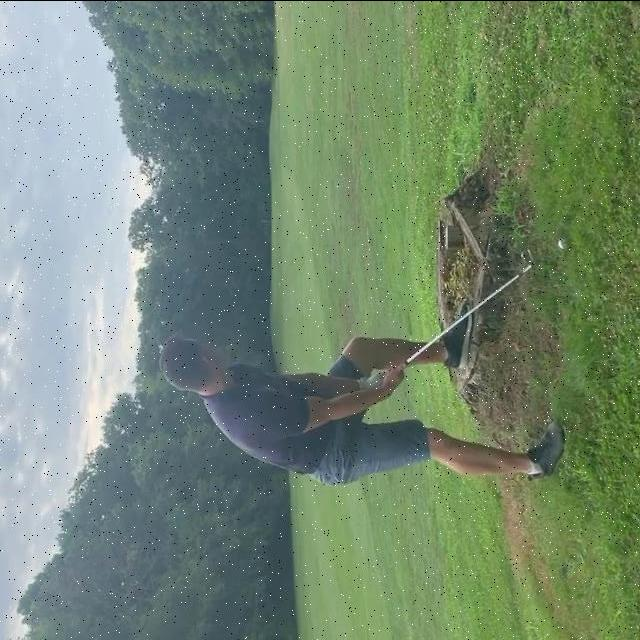golf ball: (557, 237, 566, 248)
golf club-handle: (405, 248, 534, 364)
golf club-head: (522, 249, 535, 265)
